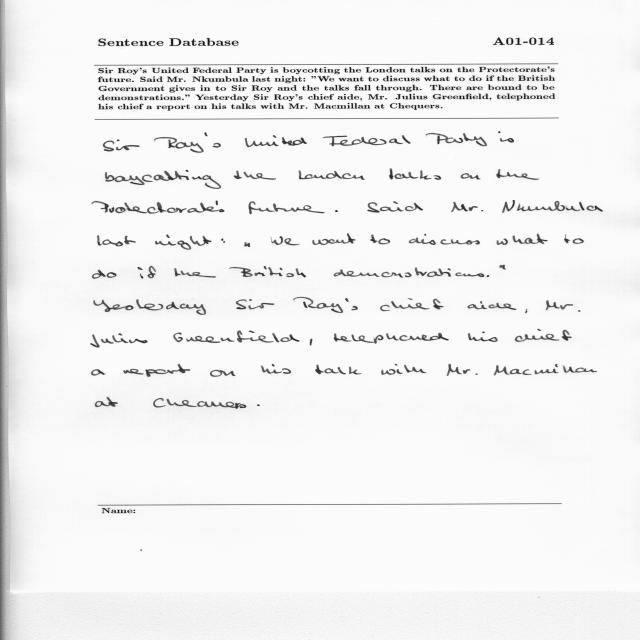word: (92, 201, 275, 215), (105, 170, 221, 189), (94, 299, 206, 315), (174, 330, 300, 343), (334, 268, 484, 278), (154, 133, 221, 153), (502, 200, 603, 213), (334, 333, 449, 344), (494, 364, 597, 376), (293, 297, 358, 313), (153, 398, 246, 409), (323, 135, 410, 146), (123, 364, 190, 377), (229, 266, 306, 277), (155, 235, 211, 250), (380, 298, 444, 311), (426, 133, 487, 146), (91, 333, 147, 347), (409, 234, 480, 245), (245, 135, 307, 147), (515, 329, 572, 342), (367, 201, 423, 213), (299, 170, 365, 180), (390, 169, 442, 180), (497, 234, 548, 245), (312, 233, 356, 245), (273, 204, 325, 214), (382, 364, 427, 375), (497, 169, 540, 180), (315, 365, 362, 375), (103, 140, 140, 152), (468, 301, 517, 310), (234, 170, 276, 180), (174, 268, 216, 278), (98, 236, 136, 247), (546, 300, 580, 312), (236, 299, 274, 309), (447, 364, 478, 376), (452, 202, 484, 212), (468, 331, 497, 342), (261, 364, 291, 374), (271, 237, 300, 246), (95, 397, 118, 407), (93, 270, 117, 279), (138, 266, 156, 278), (371, 235, 391, 245), (564, 234, 584, 244), (498, 132, 514, 143), (210, 370, 235, 377), (461, 173, 481, 180), (92, 369, 106, 376), (500, 265, 506, 270), (245, 242, 250, 247), (310, 339, 313, 346), (221, 239, 225, 243), (525, 309, 528, 313), (335, 210, 338, 212), (257, 404, 260, 406), (487, 275, 489, 277)
